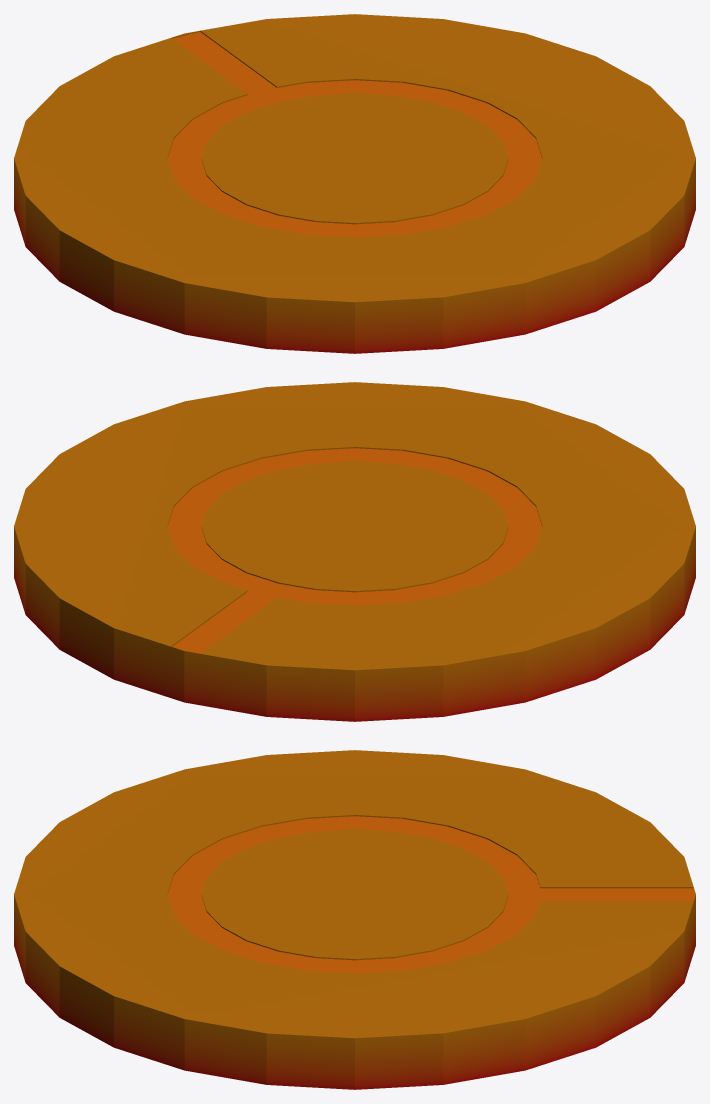
File: plaza_ring.glb
3 renders of one model, top to bottom at view 1: azimuth 30°, elevation 25°; view 2: azimuth 150°, elevation 25°; view 3: azimuth 270°, elevation 25°, orthographic.
Visible parts, largest first — view 1: plaza_ring; view 2: plaza_ring; view 3: plaza_ring.
Boxes of the visible parts, x1=… form: plaza_ring: x1=14, y1=14, x2=695, y2=353; plaza_ring: x1=14, y1=382, x2=695, y2=721; plaza_ring: x1=14, y1=750, x2=695, y2=1089.
Size of what is drawn, in the model's own units: 6 by 0.5 by 6.
